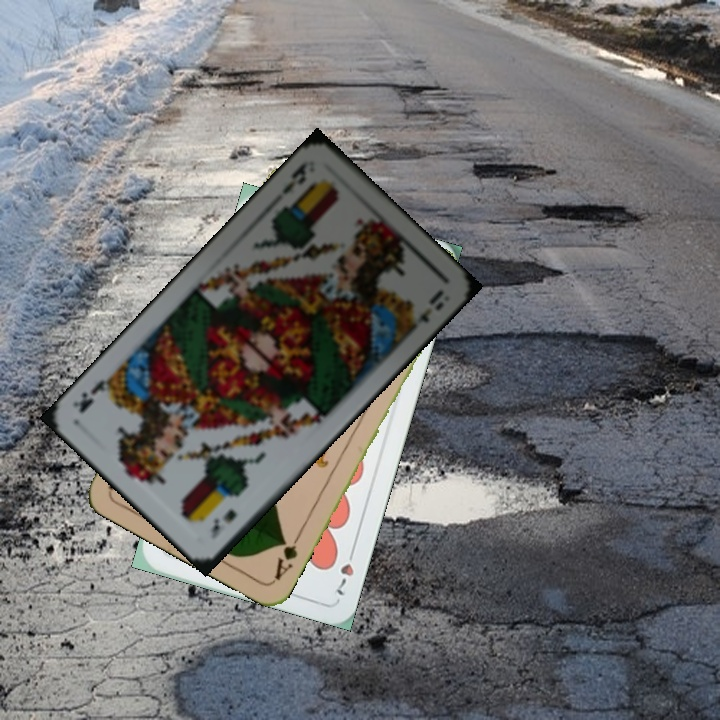EK: (206, 505, 240, 541), (278, 159, 310, 197)
GA: (270, 528, 304, 583)
H7: (331, 542, 358, 598)
